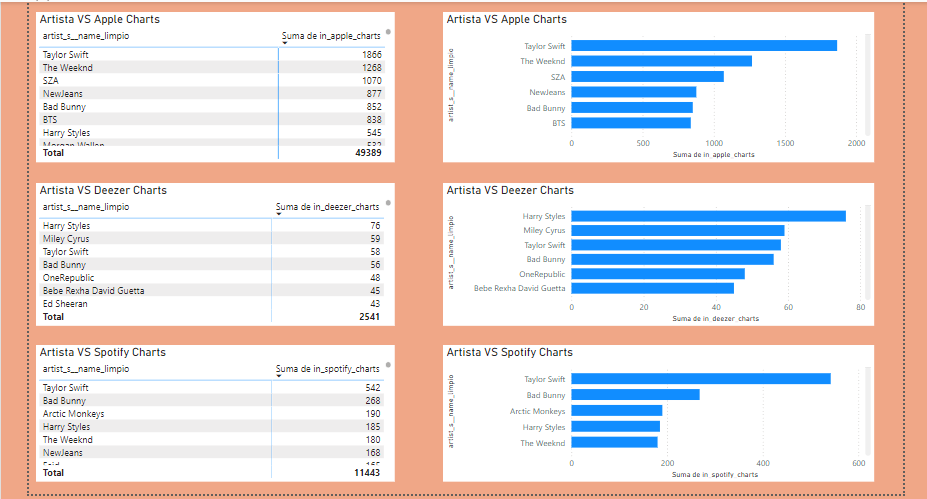

The dashboard page shown, as its layout file describes it:
{"tool":"powerbi","page":{"name":"Dashboard 6","canvas":[1280,720],"ordinal":17},"visuals":[{"type":"pivotTable","title":"Artista VS Apple Charts","fields":{"Rows":["view_complete_table.artist_s__name_limpio"],"Values":["Sum(view_complete_table.in_apple_charts)"]},"box":[10.2,14.6,525.4,219.5],"z":0},{"type":"barChart","title":"Artista VS Apple Charts","fields":{"Category":["view_complete_table.artist_s__name_limpio"],"Y":["Sum(view_complete_table.in_apple_charts)"]},"box":[605.9,14.6,630.7,219.5],"z":1000},{"type":"pivotTable","title":"Artista VS Deezer Charts","fields":{"Rows":["view_complete_table.artist_s__name_limpio"],"Values":["Sum(view_complete_table.in_deezer_charts)"]},"box":[10.2,264.9,525.4,209.3],"z":2000},{"type":"barChart","title":"Artista VS Deezer Charts","fields":{"Category":["view_complete_table.artist_s__name_limpio"],"Y":["Sum(view_complete_table.in_deezer_charts)"]},"box":[605.9,264.9,630.7,209.3],"z":3000},{"type":"pivotTable","title":"Artista VS Spotify Charts","fields":{"Rows":["view_complete_table.artist_s__name_limpio"],"Values":["Sum(view_complete_table.in_spotify_charts)"]},"box":[10.2,502,525.4,200.5],"z":4000},{"type":"barChart","title":"Artista VS Spotify Charts","fields":{"Category":["view_complete_table.artist_s__name_limpio"],"Y":["Sum(view_complete_table.in_spotify_charts)"]},"box":[606,502,631,200],"z":5000}]}

Visuals, with their boxes in screenshot pixels (x1, y1, x2, y2):
"Artista VS Apple Charts" pivotTable: locate(34, 10, 393, 160)
"Artista VS Apple Charts" barChart: locate(441, 10, 873, 160)
"Artista VS Deezer Charts" pivotTable: locate(34, 181, 393, 325)
"Artista VS Deezer Charts" barChart: locate(441, 181, 873, 325)
"Artista VS Spotify Charts" pivotTable: locate(34, 344, 393, 481)
"Artista VS Spotify Charts" barChart: locate(441, 344, 873, 480)
